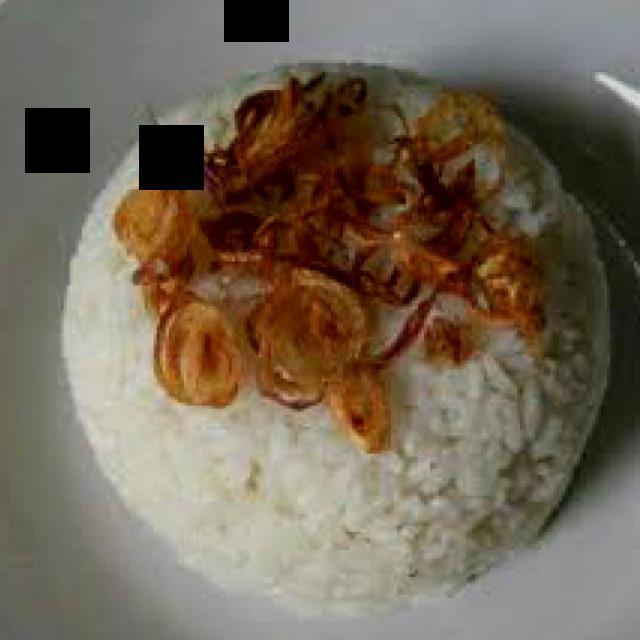rice: (62, 60, 614, 616)
